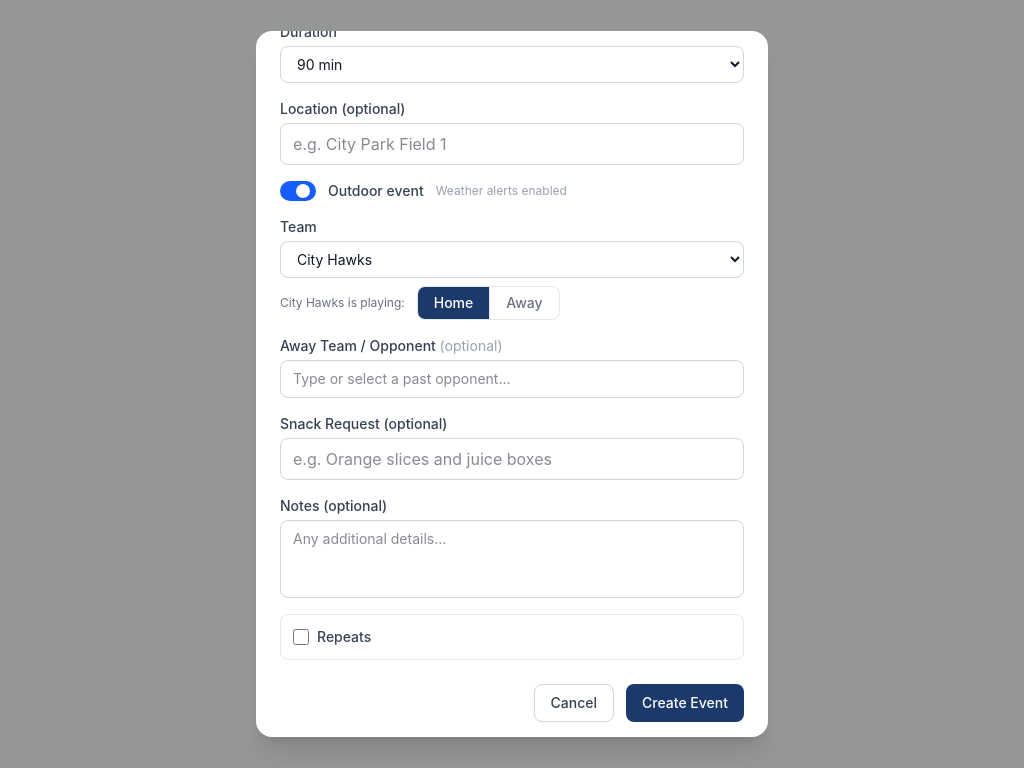
Test: EventForm — save error handling › shows an error banner when addEvent rejects
(page scrolled)
Click the button "Create Event".
click(685, 703)  # box 626,684 -> 744,722
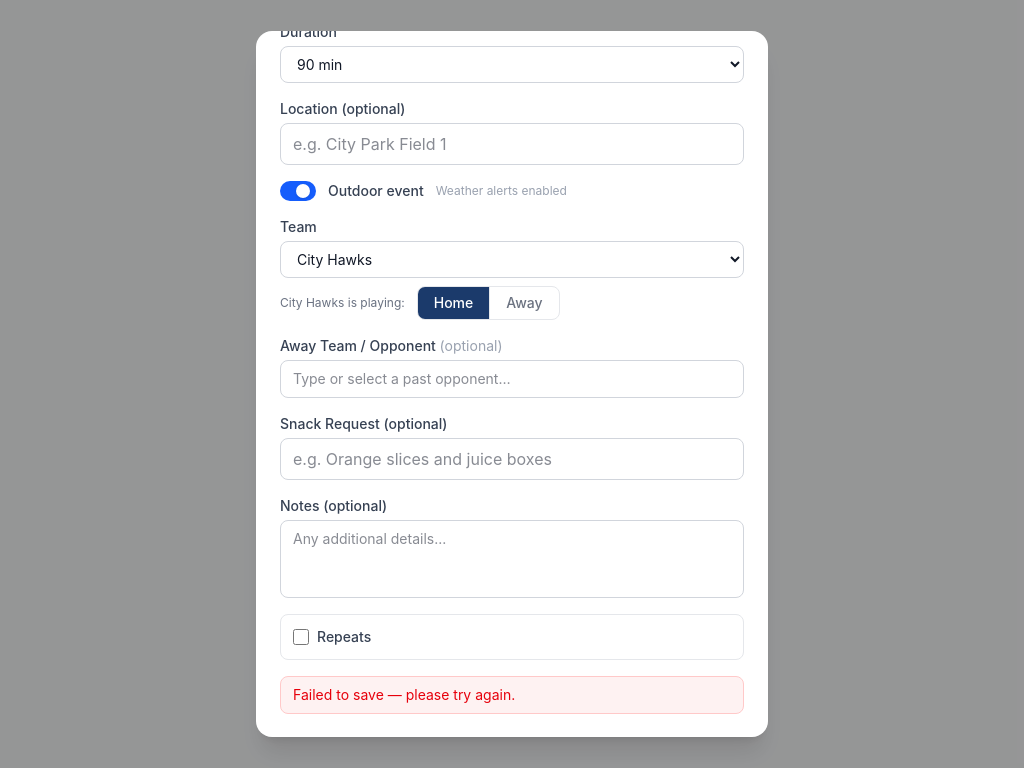
Expected: the text "Failed to save — please try again." is shown, 280,676 -> 744,714
